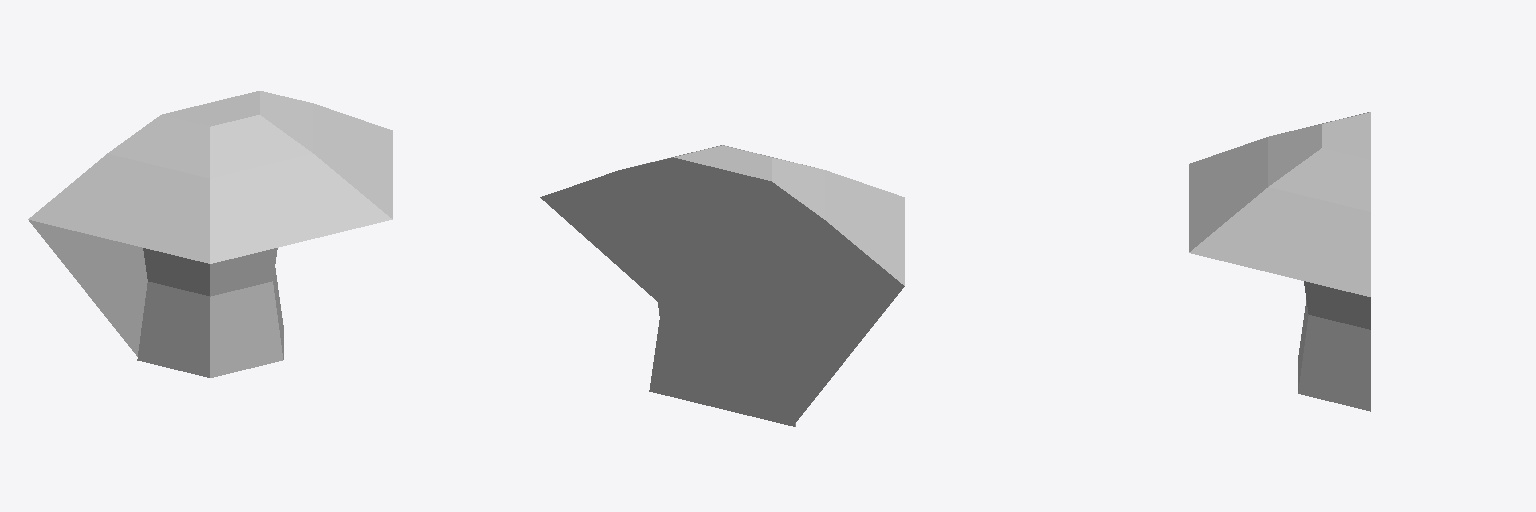
Rendered from mushroomHalf.obj.
The picture shows the model from 3 angles: view 1: azimuth 30°, elevation 25°; view 2: azimuth 150°, elevation 25°; view 3: azimuth 270°, elevation 25°; orthographic projection.
Parts seen in each view (by area): view 1: mushroom_geo; view 2: mushroom_geo; view 3: mushroom_geo.
Part boxes in pixels (left/top/right/bottom): mushroom_geo: left=28, top=91, right=392, bottom=377; mushroom_geo: left=540, top=145, right=904, bottom=426; mushroom_geo: left=1189, top=112, right=1370, bottom=411.
Bounding box in the file's own units: 4.99 × 3.14 × 2.16.